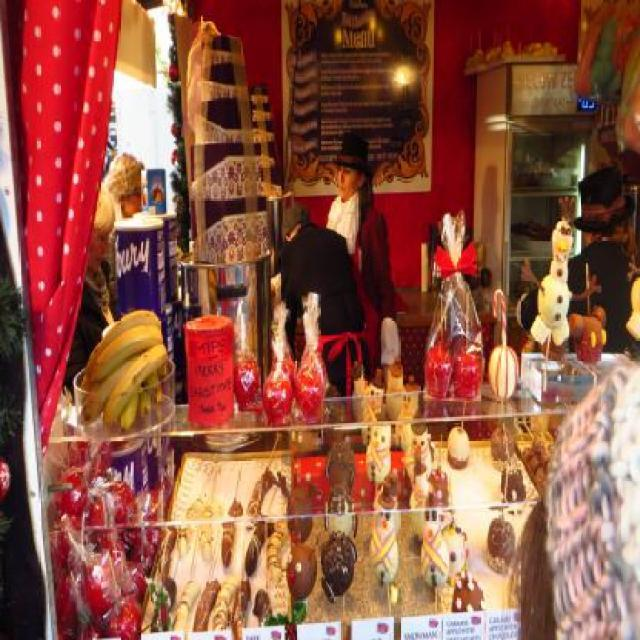Banana: (63, 298, 179, 438), (178, 495, 207, 557), (172, 576, 200, 635), (245, 514, 272, 574), (213, 574, 241, 630), (222, 499, 244, 568), (228, 578, 252, 640), (193, 578, 221, 630), (267, 522, 290, 582), (200, 498, 222, 560), (247, 467, 275, 515), (158, 526, 178, 588), (254, 587, 272, 627)
